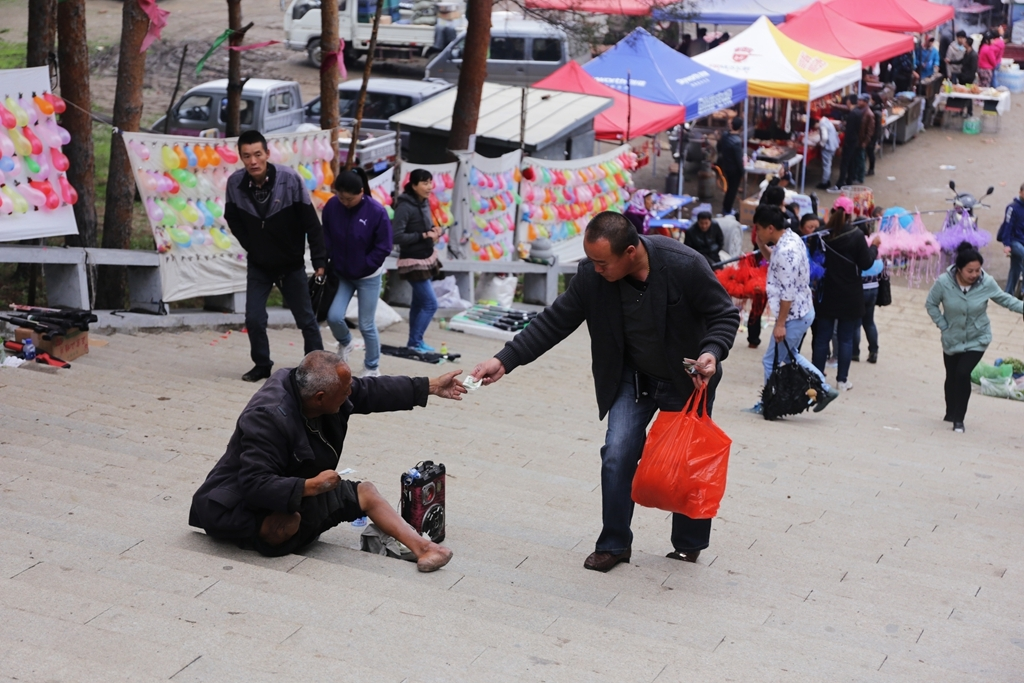10+: (170, 3, 1022, 580)
